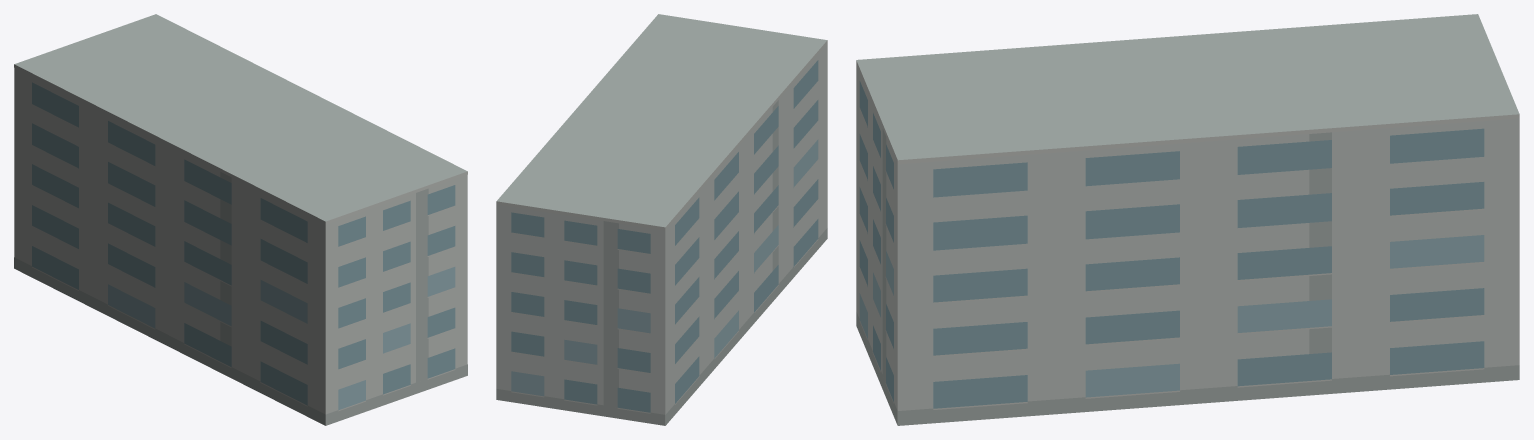
File: residential-57f22fbb-d37e-470e-85f7-bf32df4e5a50.glb
3 renders of one model, left to right at view 1: azimuth 30°, elevation 25°; view 2: azimuth 150°, elevation 25°; view 3: azimuth 270°, elevation 25°, orthographic. The views are drawn at different scales.
Parts seen in each view (by area): view 1: residential-57f22fbb-d37e-470e-85f7-bf32df4e5a50.tmp; view 2: residential-57f22fbb-d37e-470e-85f7-bf32df4e5a50.tmp; view 3: residential-57f22fbb-d37e-470e-85f7-bf32df4e5a50.tmp.
Part boxes in pixels (left/top/right/bottom): residential-57f22fbb-d37e-470e-85f7-bf32df4e5a50.tmp: left=14, top=14, right=467, bottom=425; residential-57f22fbb-d37e-470e-85f7-bf32df4e5a50.tmp: left=496, top=14, right=827, bottom=425; residential-57f22fbb-d37e-470e-85f7-bf32df4e5a50.tmp: left=856, top=14, right=1519, bottom=425.
Bounding box in the file's own units: 18.01 × 15.25 × 34.52.
